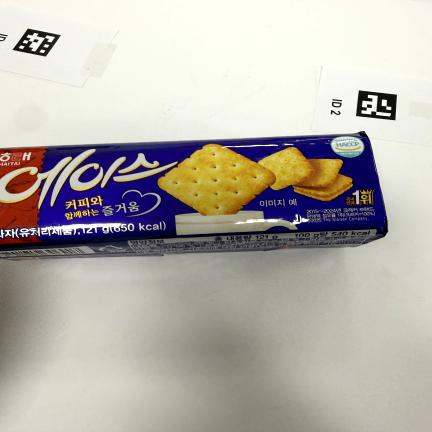cracker_ace: (0, 131, 387, 259)
